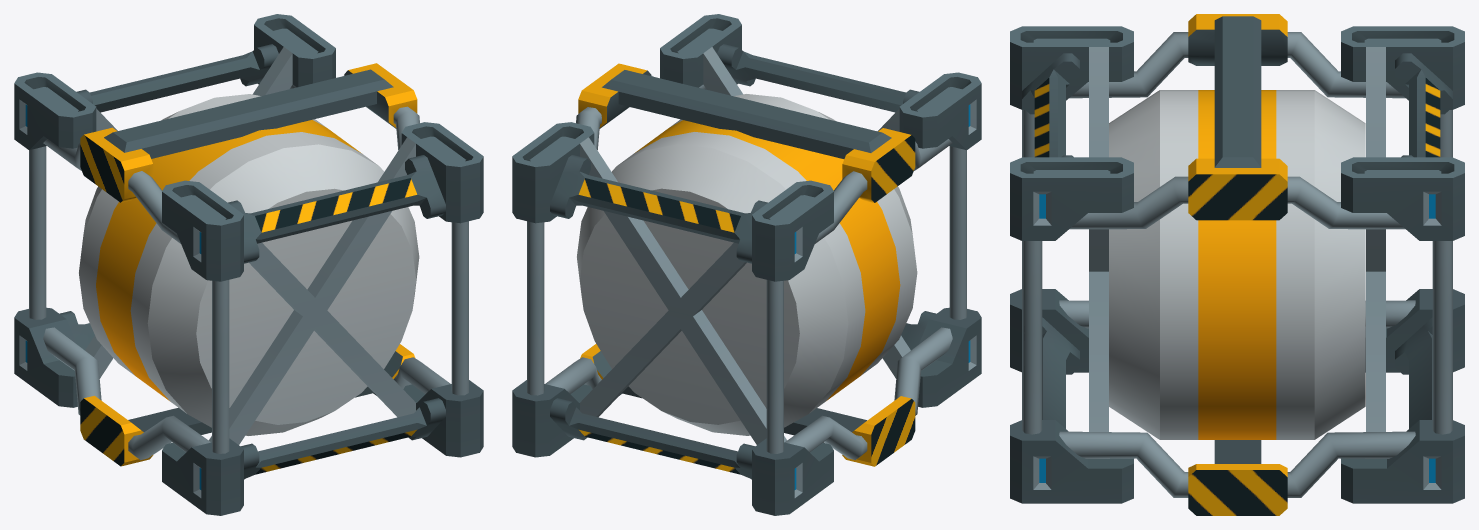
The model's file is Gas_cistern_type_B_001.fbx.
The picture shows the model from 3 angles, left to right: view 1: azimuth 30°, elevation 25°; view 2: azimuth 150°, elevation 25°; view 3: azimuth 270°, elevation 25°; orthographic projection. The views are drawn at different scales.
Parts seen in each view (by area): view 1: Gas_cistern_type_B_001; view 2: Gas_cistern_type_B_001; view 3: Gas_cistern_type_B_001.
Part boxes in pixels (x1,y1,x2,y2): Gas_cistern_type_B_001: [14, 14, 483, 515]; Gas_cistern_type_B_001: [512, 14, 981, 515]; Gas_cistern_type_B_001: [1010, 14, 1464, 515].
Bounding box in the file's own units: 253 × 304 × 257.
